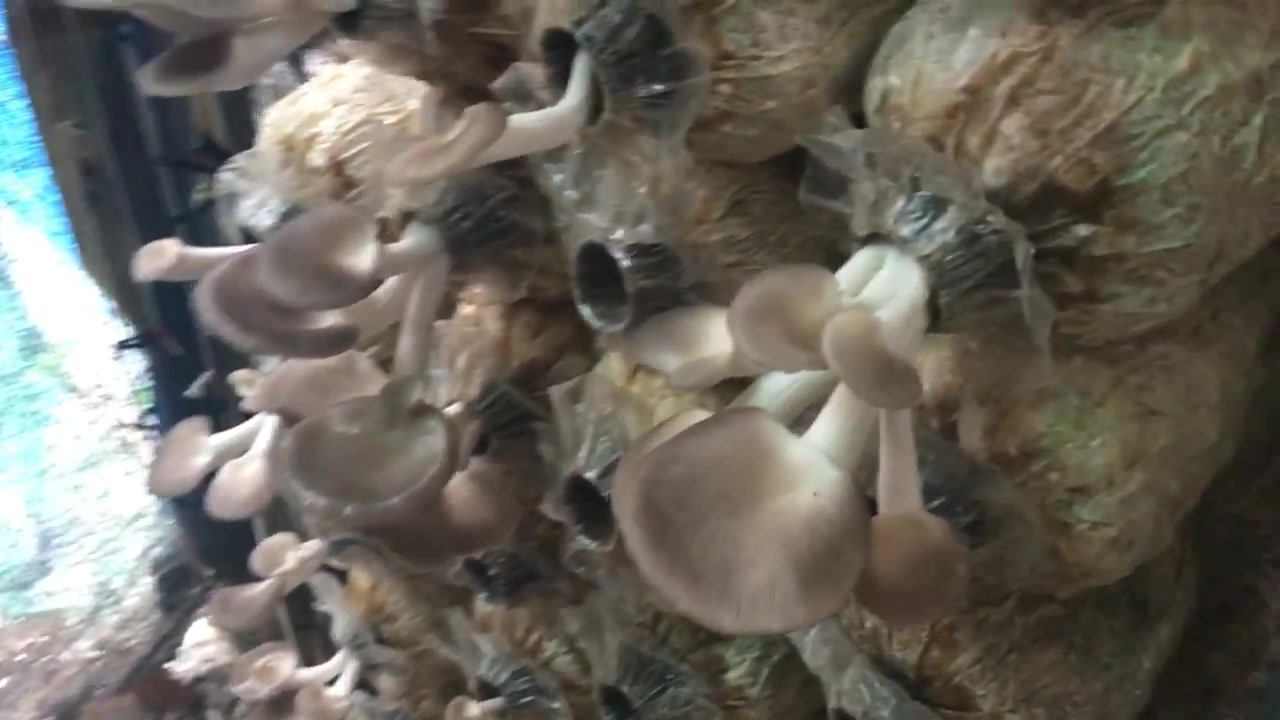nam: (616, 191, 966, 637), (189, 178, 478, 520), (384, 1, 644, 188), (148, 405, 281, 521), (211, 531, 343, 632), (244, 628, 366, 720)
